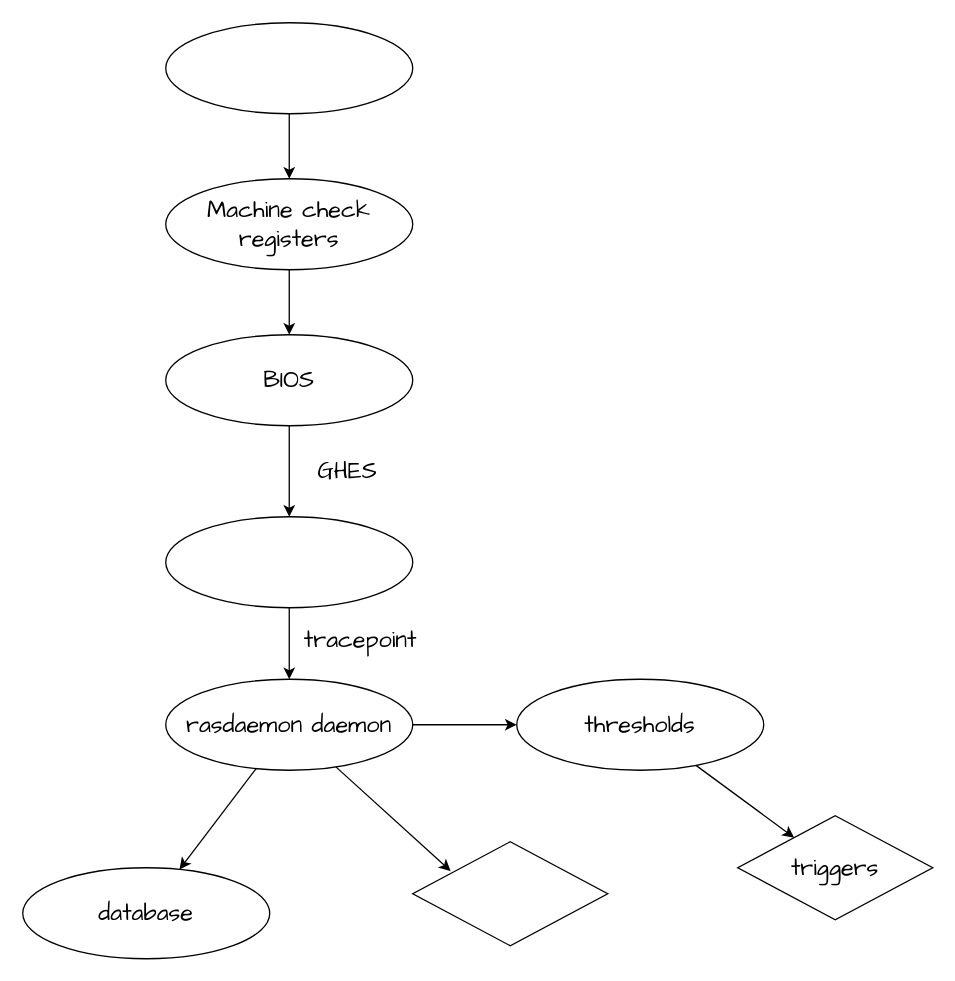
Image size: 955x981. Some labels were removed from this diagram. Here are the shapes that lost their labels. From the top down, the centre of each, then its label:
point 288,67: Memory controller
point 288,561: kernel
point 509,893: global logfile
